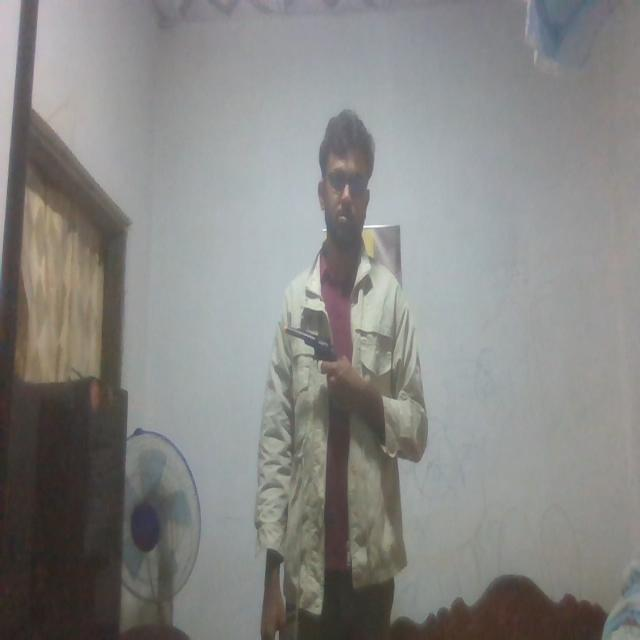Gun_Holder: (282, 319, 343, 389)
Jacket_Wearer: (250, 240, 435, 593)
Person: (254, 109, 434, 640)
